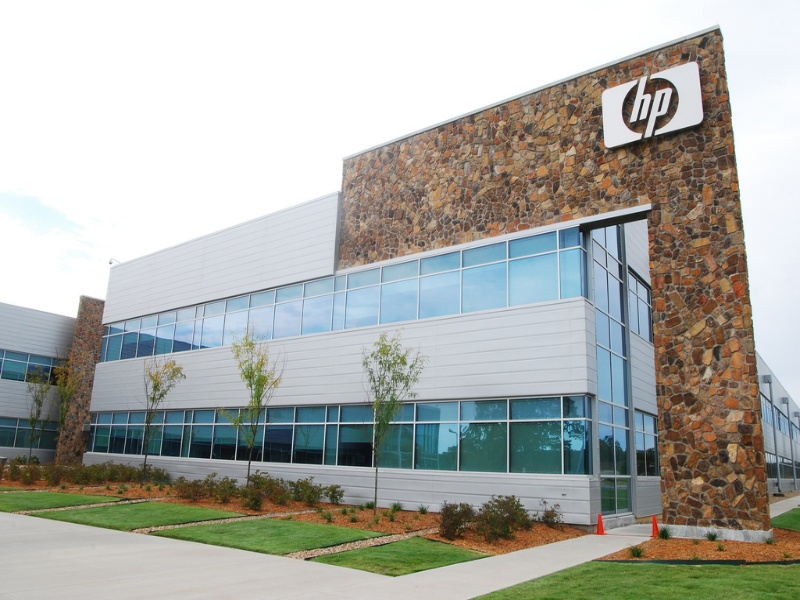hp: (625, 76, 679, 140)
